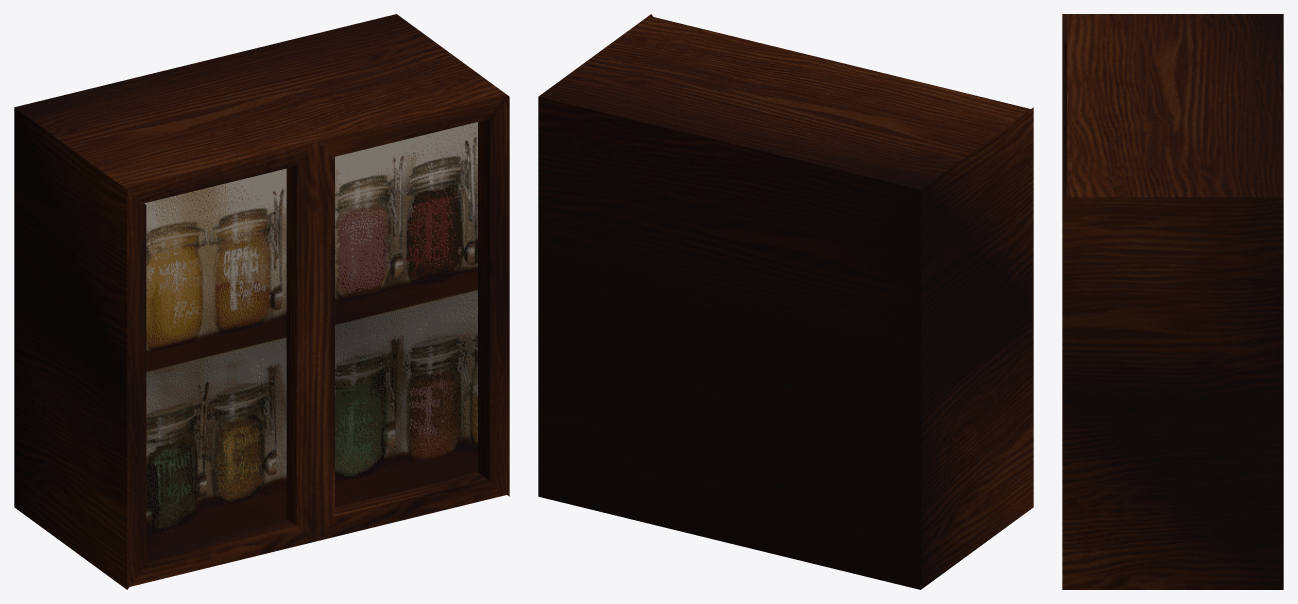
Rendered from LD56_WallCabinet.fbx.
3 renders of one model, left to right at view 1: azimuth 30°, elevation 25°; view 2: azimuth 150°, elevation 25°; view 3: azimuth 270°, elevation 25°, orthographic.
Visible parts, largest first — view 1: cabinet; view 2: cabinet; view 3: cabinet.
Part boxes in pixels (x1=…): cabinet: x1=14, y1=14, x2=509, y2=589; cabinet: x1=538, y1=14, x2=1033, y2=589; cabinet: x1=1062, y1=14, x2=1283, y2=589.
Bounding box in the file's own units: 200 × 200 × 102.
